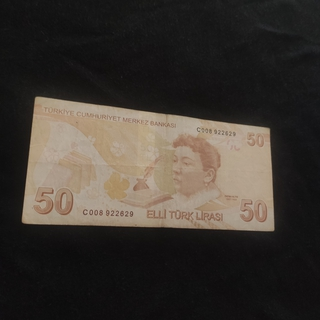50TLBack: (20, 95, 275, 232)
